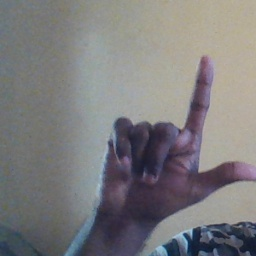L: (98, 53, 256, 217)
